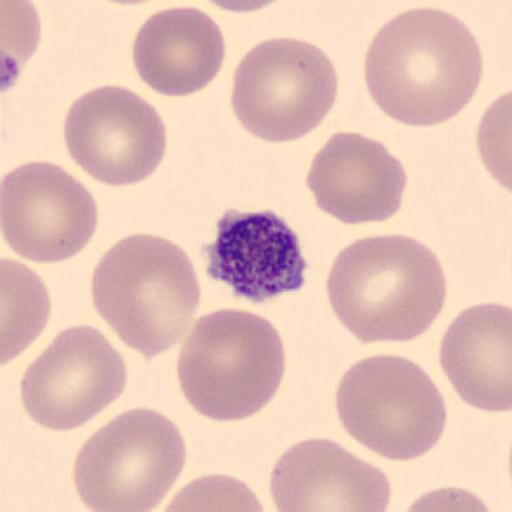Platelet: (202, 206, 311, 306)
RBC: (362, 5, 484, 129), (89, 230, 203, 360), (326, 231, 449, 346), (174, 305, 287, 424), (333, 352, 449, 462), (71, 405, 188, 512), (228, 34, 339, 144), (19, 322, 129, 433), (61, 82, 168, 189), (2, 158, 100, 265), (305, 130, 409, 226), (268, 434, 393, 512), (131, 3, 227, 99), (438, 300, 512, 414), (2, 255, 52, 367), (153, 469, 267, 512), (0, 0, 43, 93), (475, 88, 512, 196), (0, 0, 43, 66), (400, 484, 497, 512), (188, 0, 294, 16)
